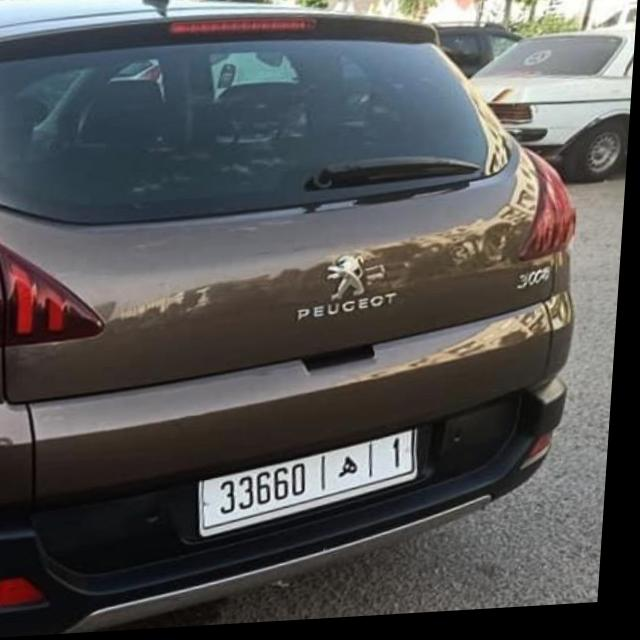License-Plate: (205, 436, 424, 540)
